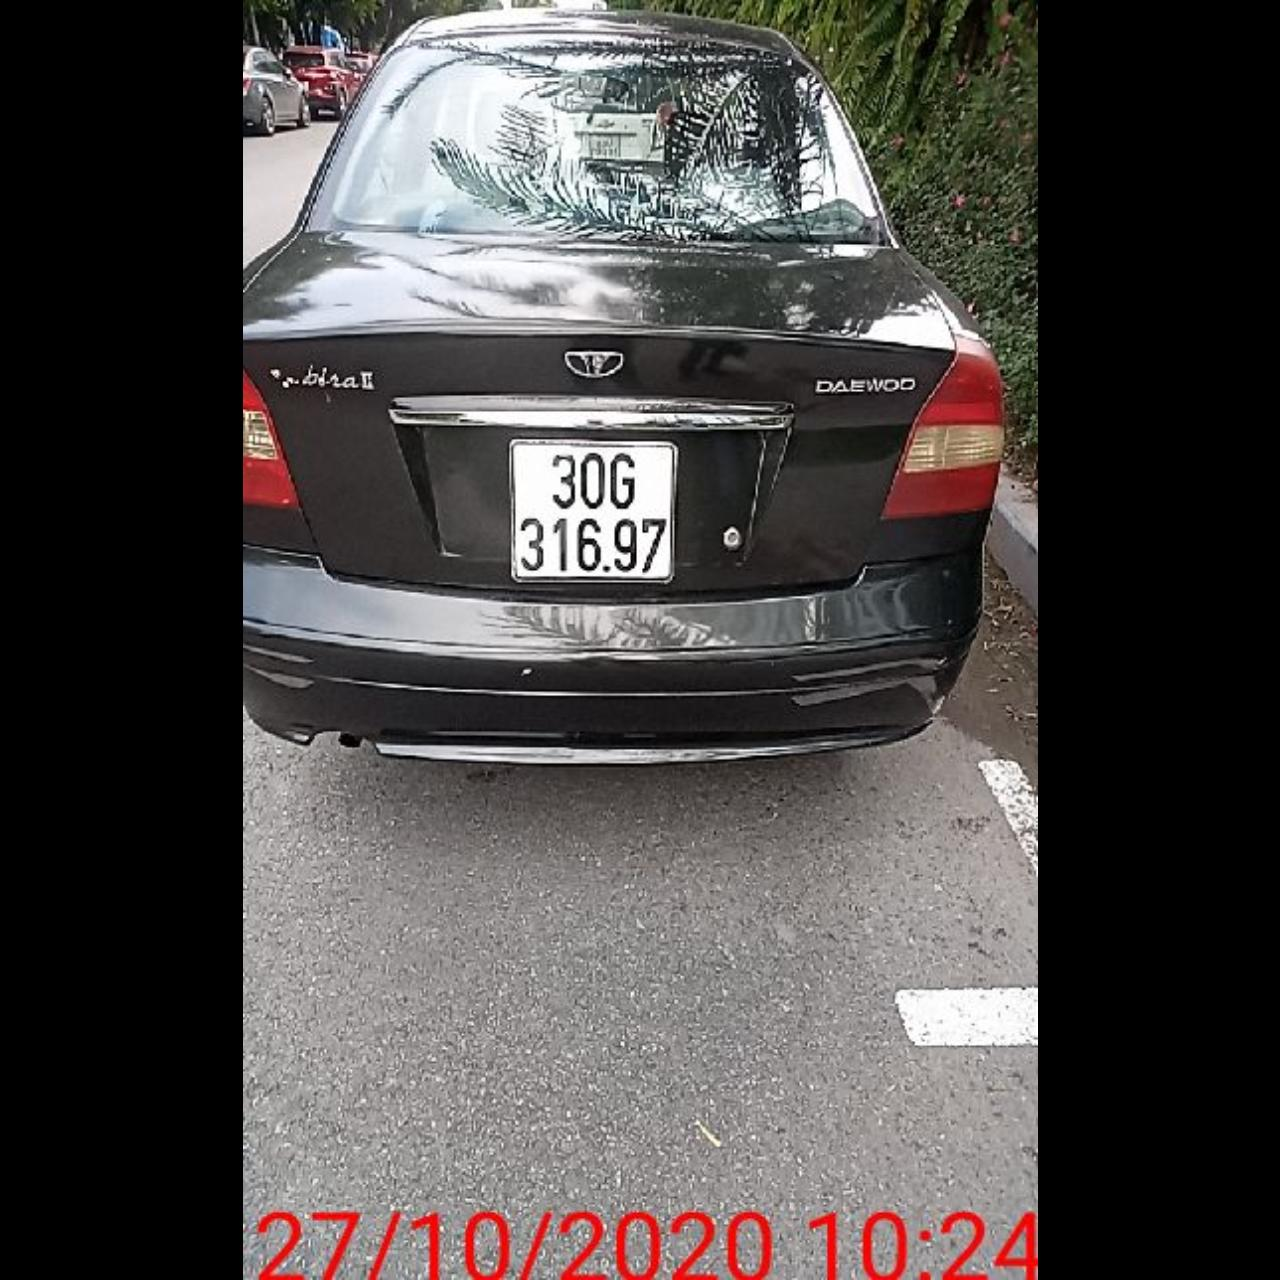bienso: (507, 434, 677, 588)
